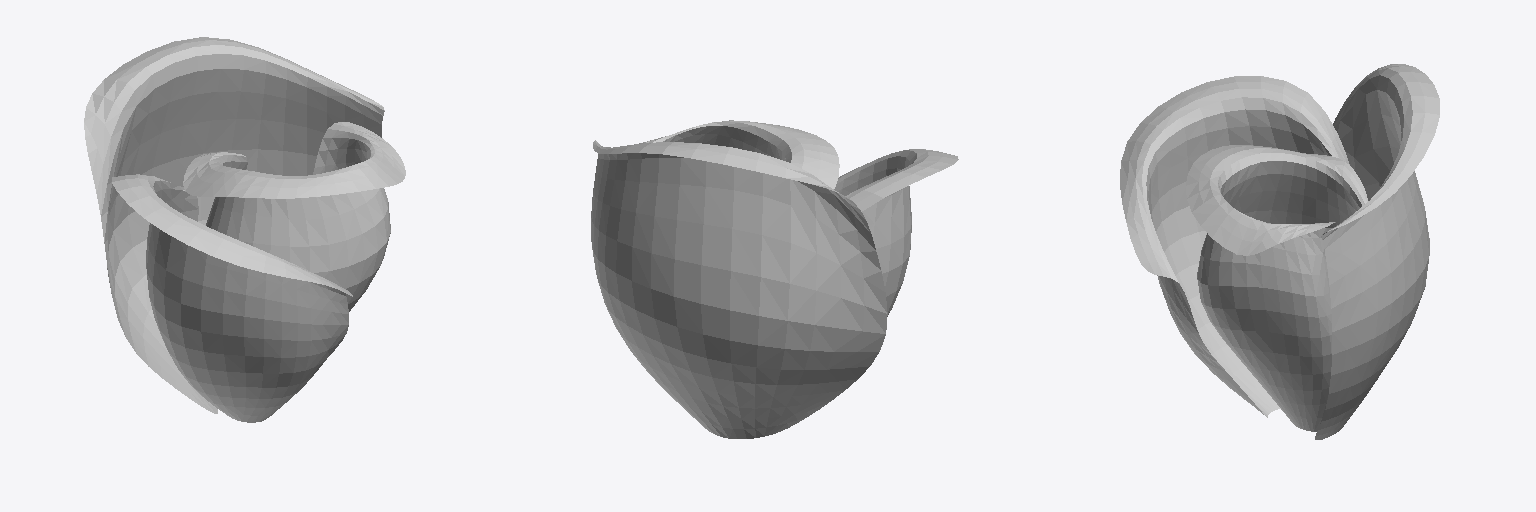
File: RoseIn.obj
3 renders of one model, left to right at view 1: azimuth 30°, elevation 25°; view 2: azimuth 150°, elevation 25°; view 3: azimuth 270°, elevation 25°, orthographic.
Visible parts, largest first — view 1: mgin; view 2: mgin; view 3: mgin.
Part boxes in pixels (left/top/right/bottom): mgin: left=84, top=37, right=405, bottom=422; mgin: left=591, top=120, right=958, bottom=438; mgin: left=1120, top=64, right=1439, bottom=439.
Bounding box in the file's own units: 24.76 × 25.2 × 22.71.